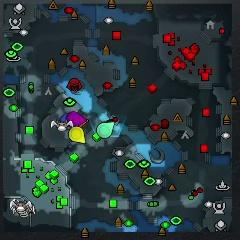p1: (60, 112, 69, 124)
p2: (96, 122, 115, 138)
p3: (67, 111, 86, 127)
p4: (69, 127, 85, 144)
p5: (79, 119, 88, 127)
